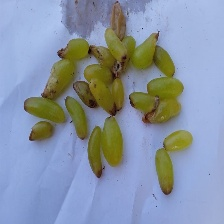grapes: (6, 9, 175, 176)
